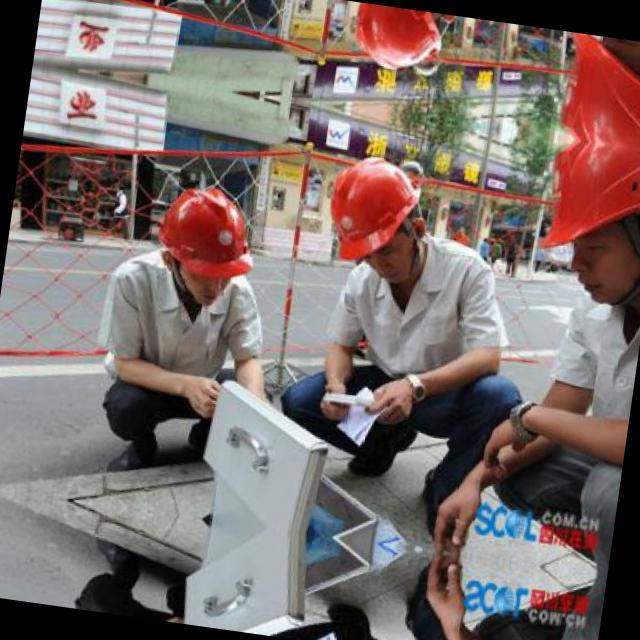helmet: (521, 135, 640, 317), (299, 141, 437, 282), (144, 174, 264, 296), (543, 30, 640, 154), (326, 0, 457, 84)
